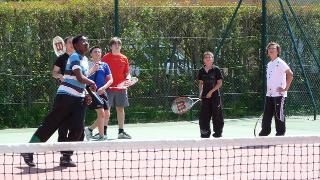person - v3 P: (29, 34, 96, 142), (259, 43, 293, 136), (85, 46, 112, 141), (198, 52, 223, 138), (106, 89, 131, 138)
